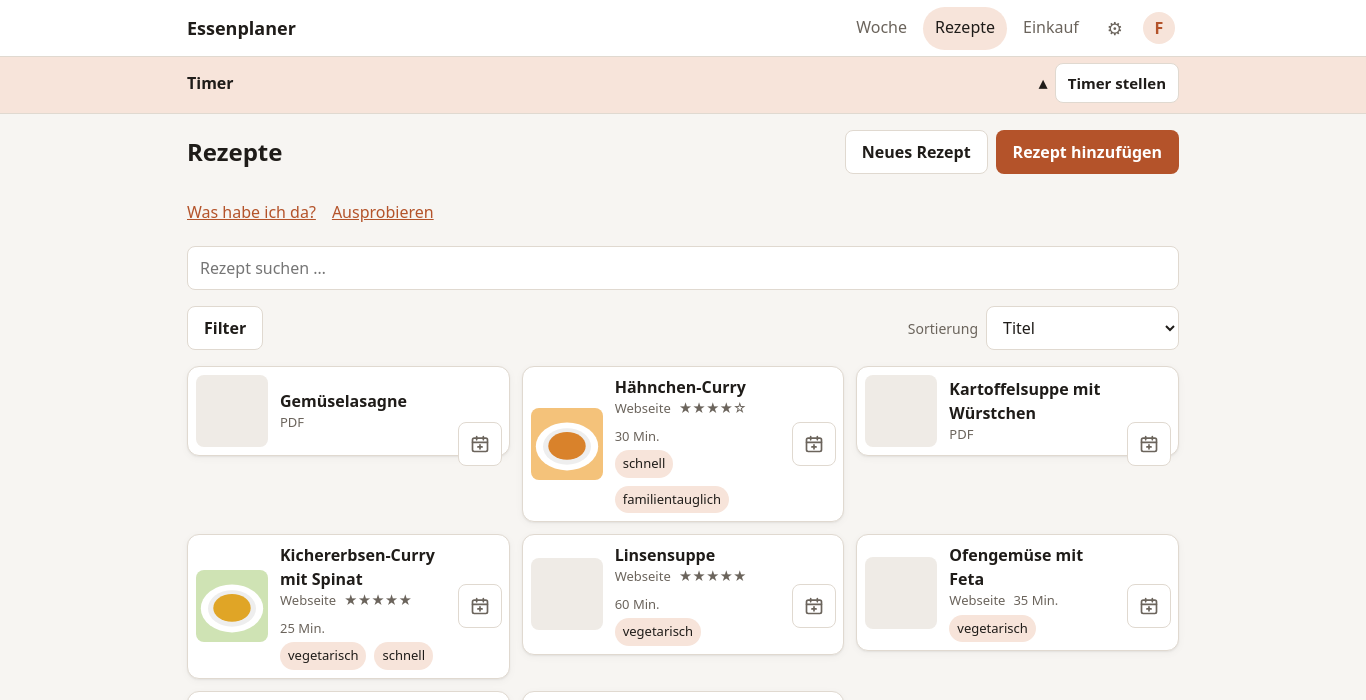
Test: Rezept per URL importieren › zeigt bei Serverfehlern eine allgemeine Meldung
This screenshot has width=1366, height=700.
Click the button "Rezept hinzufügen". click: (1087, 152)
box: [996,130,1179,174]
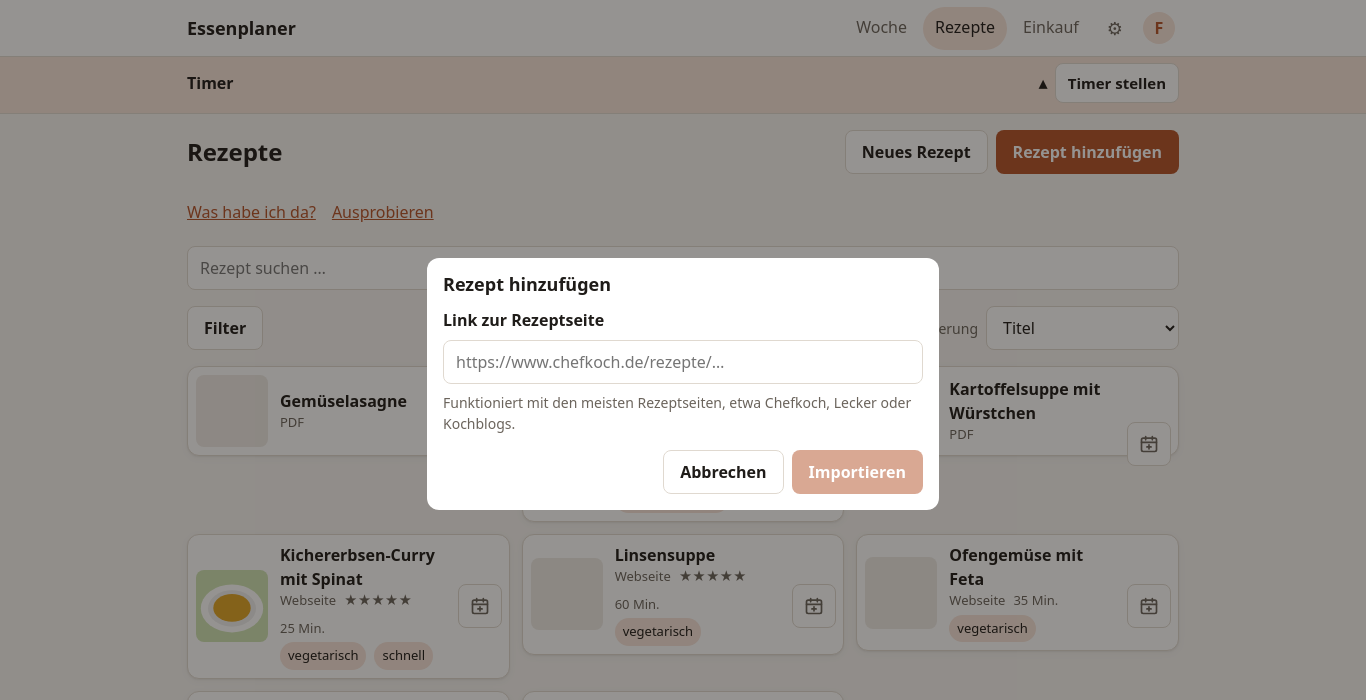
Type "https://example.com/a" into the field labelled "Link zur Rezeptseite". click: (683, 362)
box: [443,340,923,384]
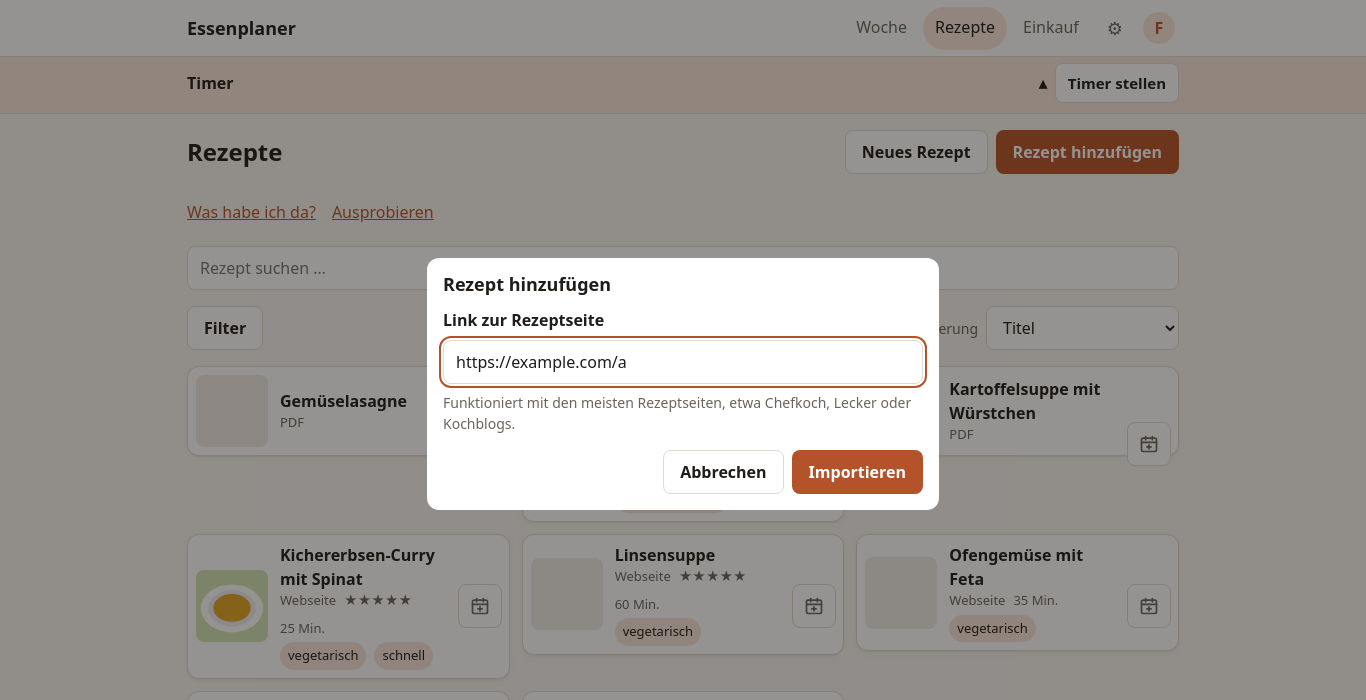
Click the button "Importieren". click: (857, 472)
box: [792,450,923,494]
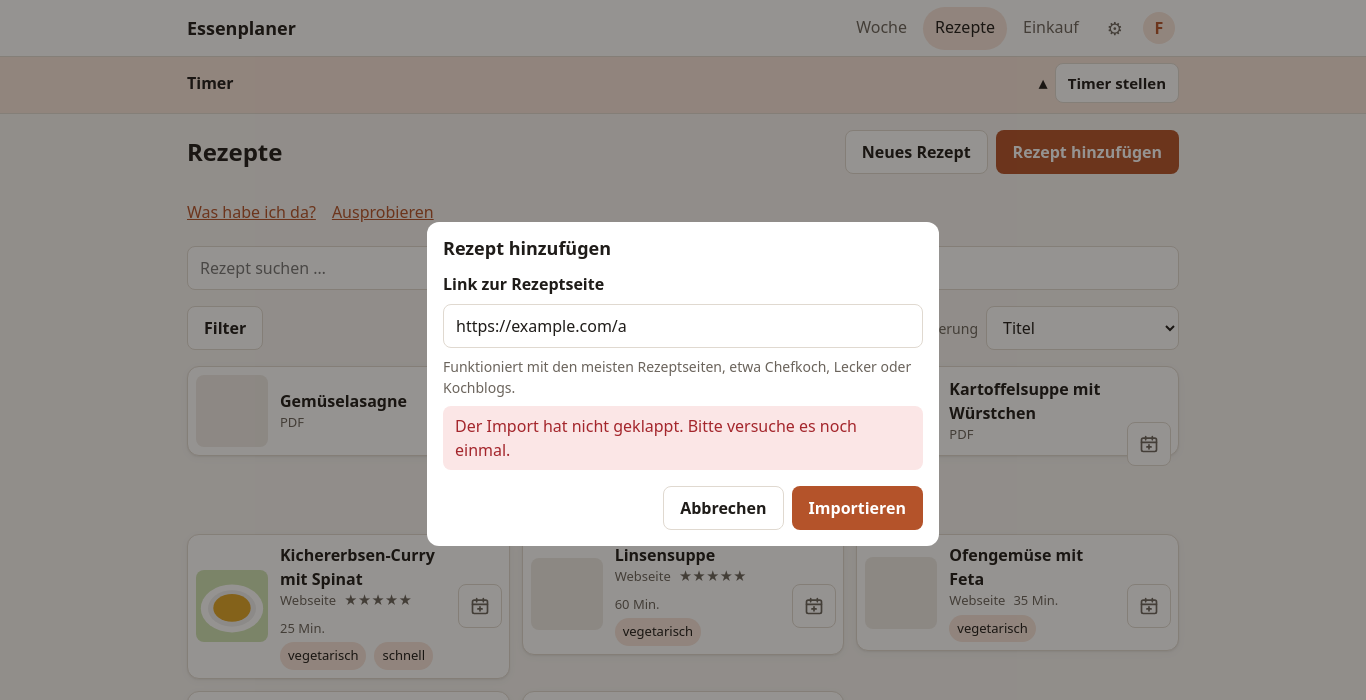
Check: the message shows "Der Import hat nicht geklappt.", box [455,415,857,461]
